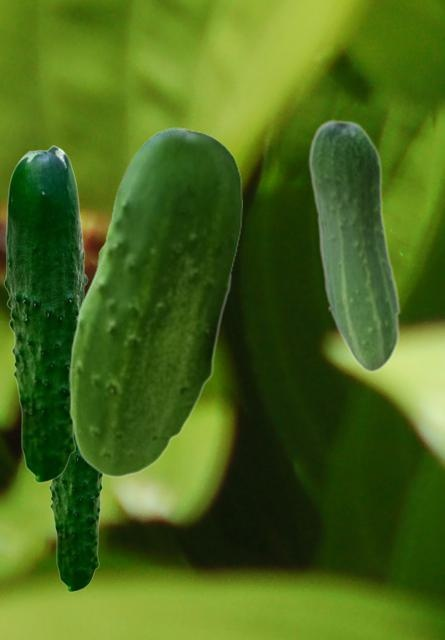cucumber: (69, 127, 241, 477), (3, 145, 87, 482), (308, 118, 400, 372), (48, 450, 103, 591)
